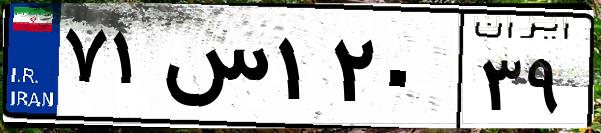0: (385, 28, 445, 110)
1: (270, 28, 330, 110), (110, 28, 158, 98)
2: (330, 28, 385, 110)
3: (475, 38, 525, 113)
7: (57, 26, 110, 100)
9: (525, 38, 570, 115)
س: (158, 20, 270, 120)
